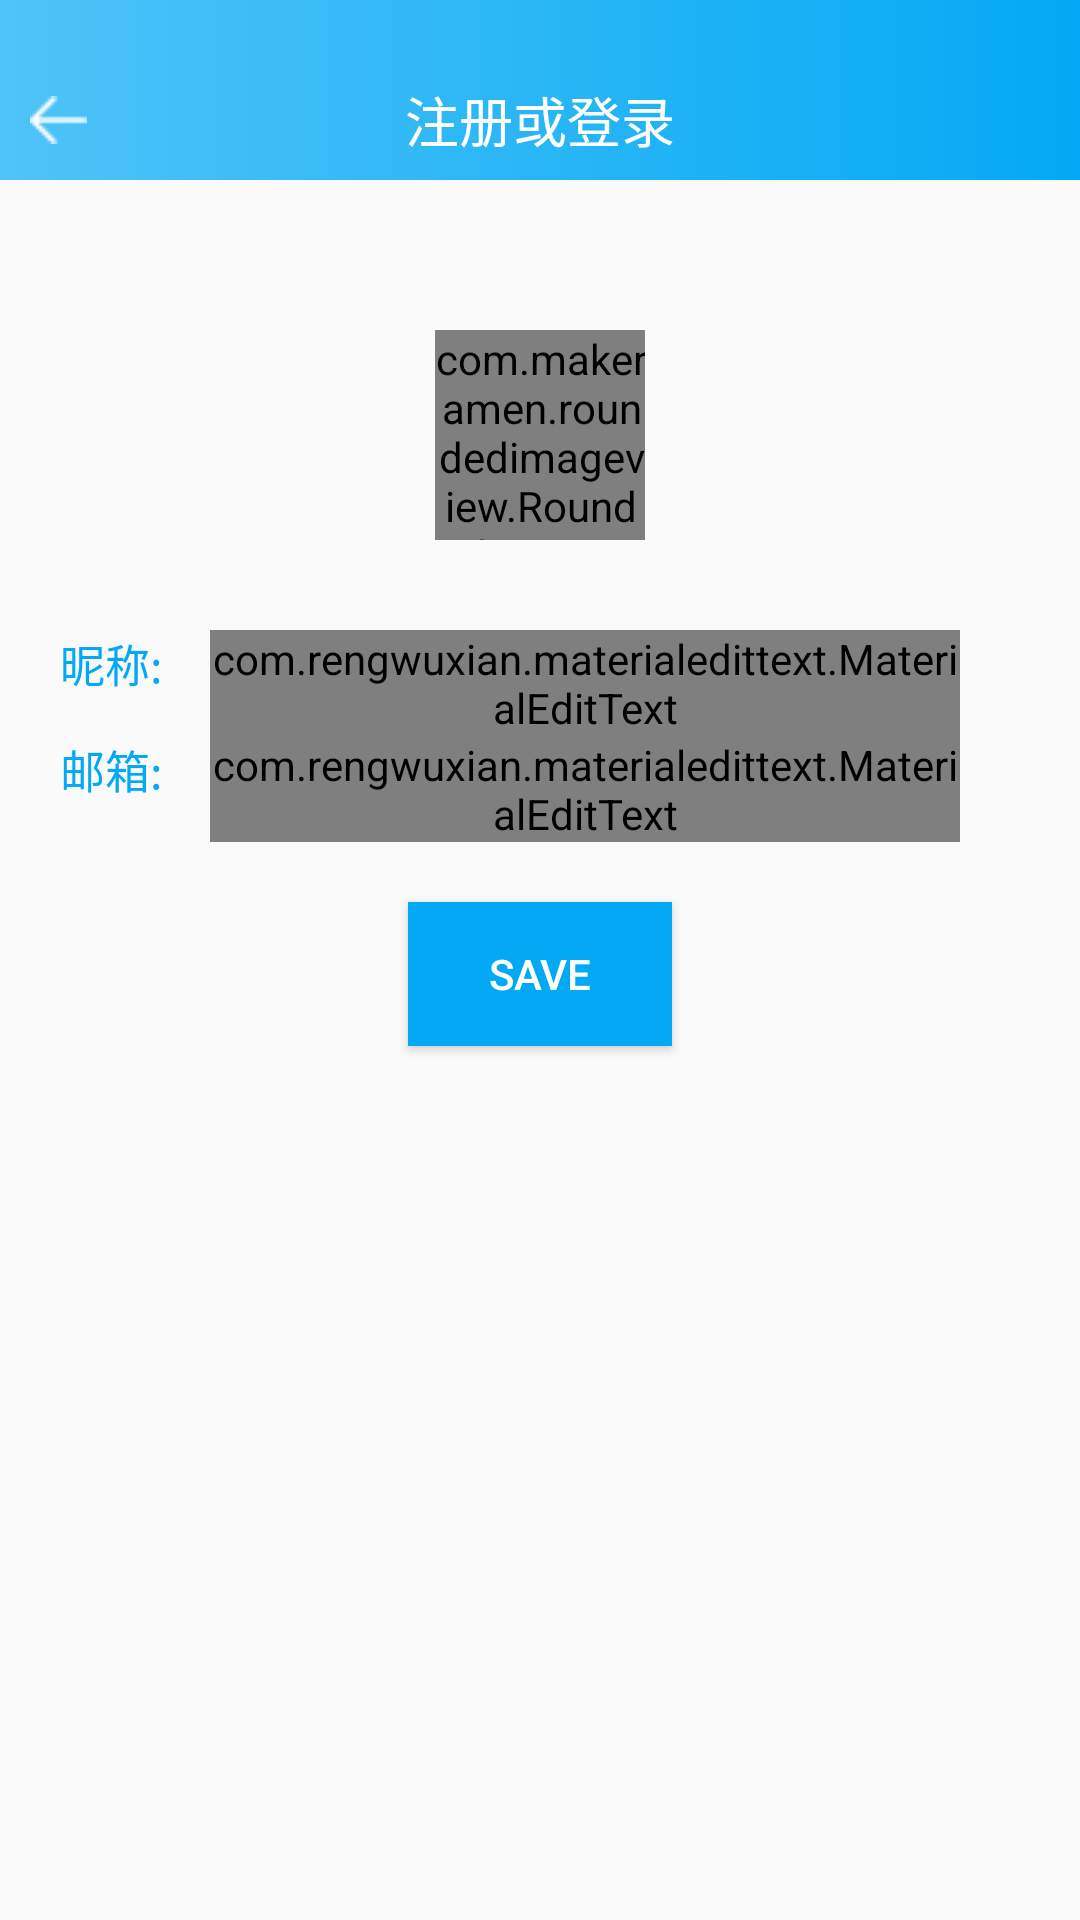

Screen size 1080 x 1920. Icon name, then its box in pixels as (x1, y1, x2, y2):
back: (30, 96, 87, 144)
